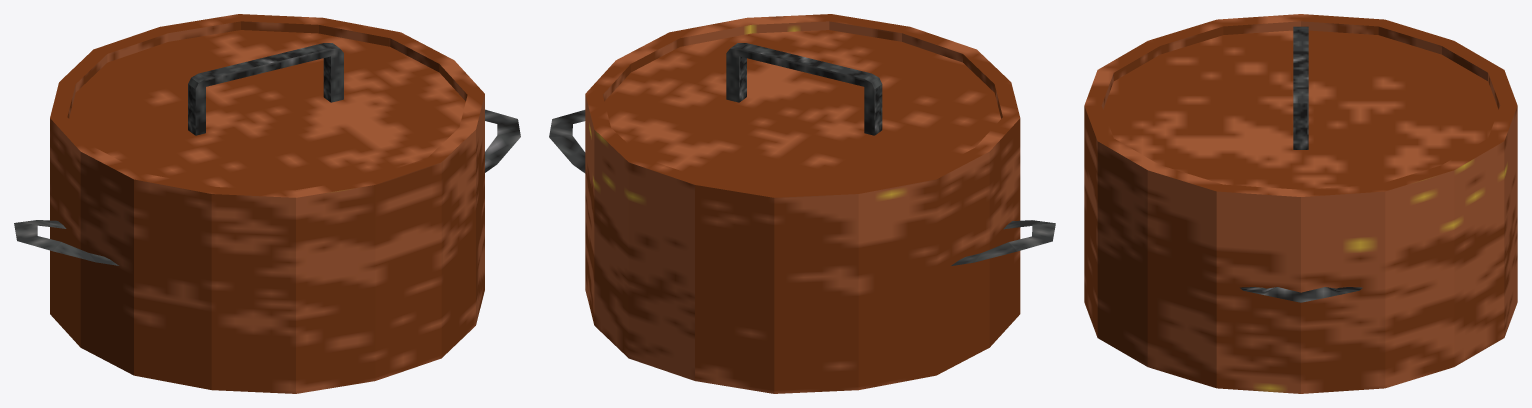
File: SM_Dungeon_Pot_Big.fbx
The picture shows the model from 3 angles, left to right: view 1: azimuth 30°, elevation 25°; view 2: azimuth 150°, elevation 25°; view 3: azimuth 270°, elevation 25°; orthographic projection.
Visible parts, largest first — view 1: SM_Dungeon_Pot_Big; view 2: SM_Dungeon_Pot_Big; view 3: SM_Dungeon_Pot_Big.
Boxes of the visible parts, <box> form: SM_Dungeon_Pot_Big: <box>14,14,520,393</box>; SM_Dungeon_Pot_Big: <box>549,14,1055,393</box>; SM_Dungeon_Pot_Big: <box>1084,14,1517,393</box>.
Bounding box in the file's own units: 70.32 × 32.43 × 52.49.
